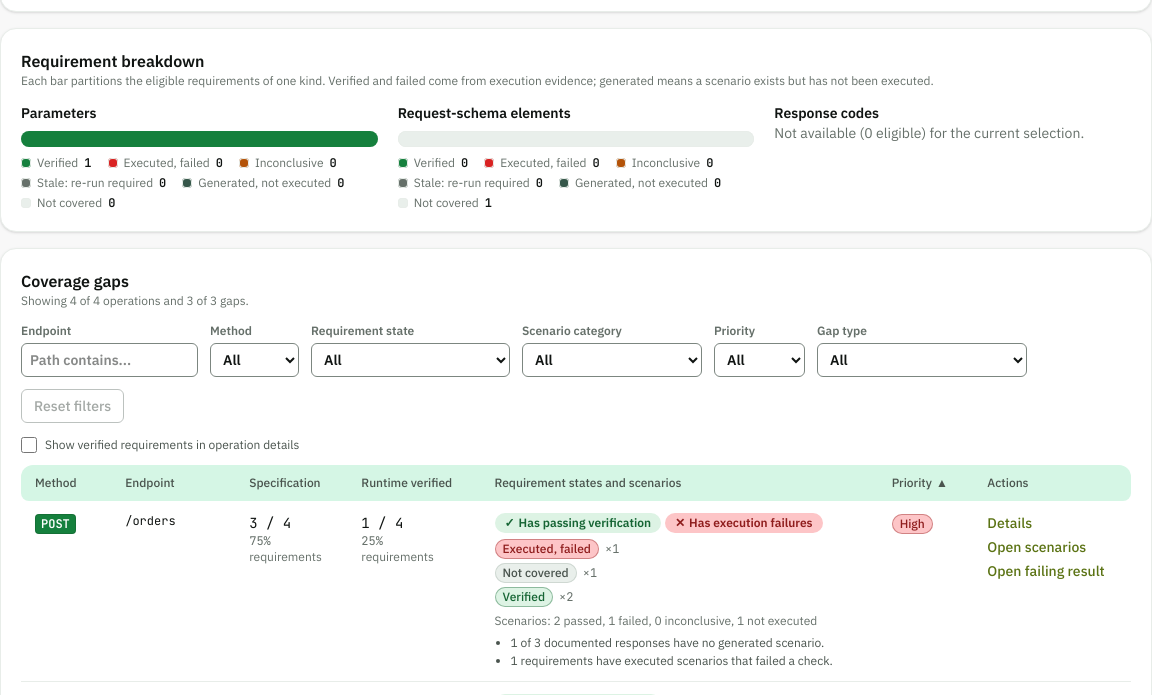
Test: CoveragePage: table, filters and sorting › requests a filtered view from the server and shows how many operations are in view
(page scrolled)
Select "POST" in the dropdown labelled "Method": x=254, y=360 [210,343,299,377]
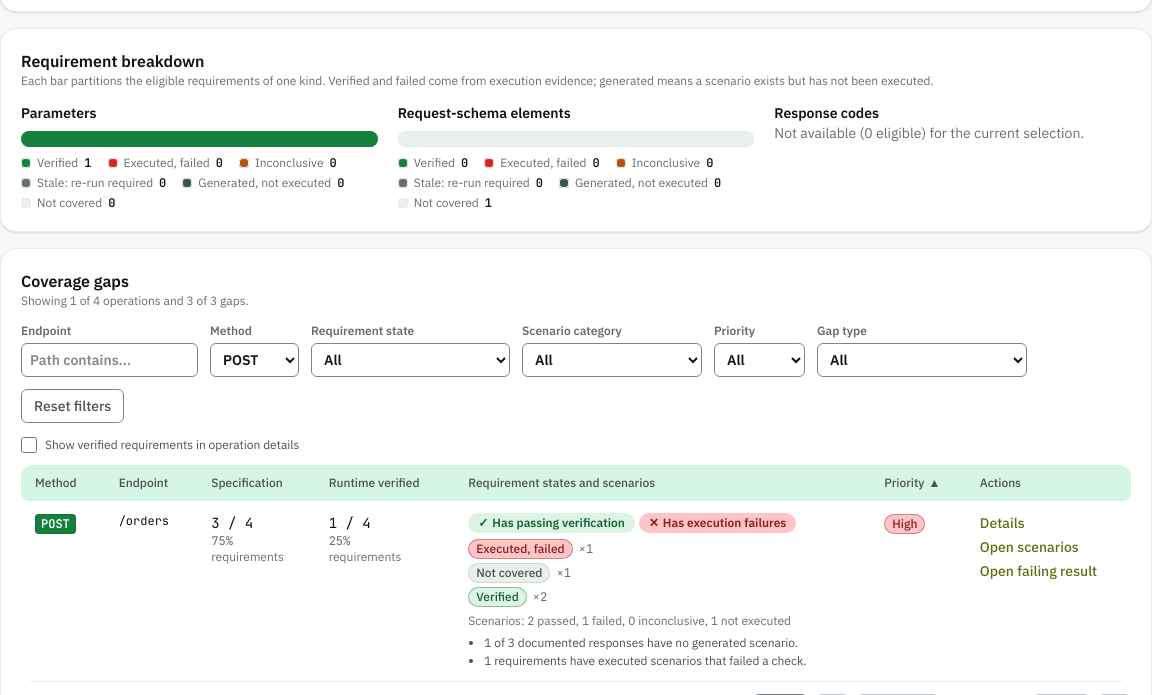
Result: the text "Showing 1 of 4 operations and 3 of 3 gaps." is shown at [21,293,249,309]
